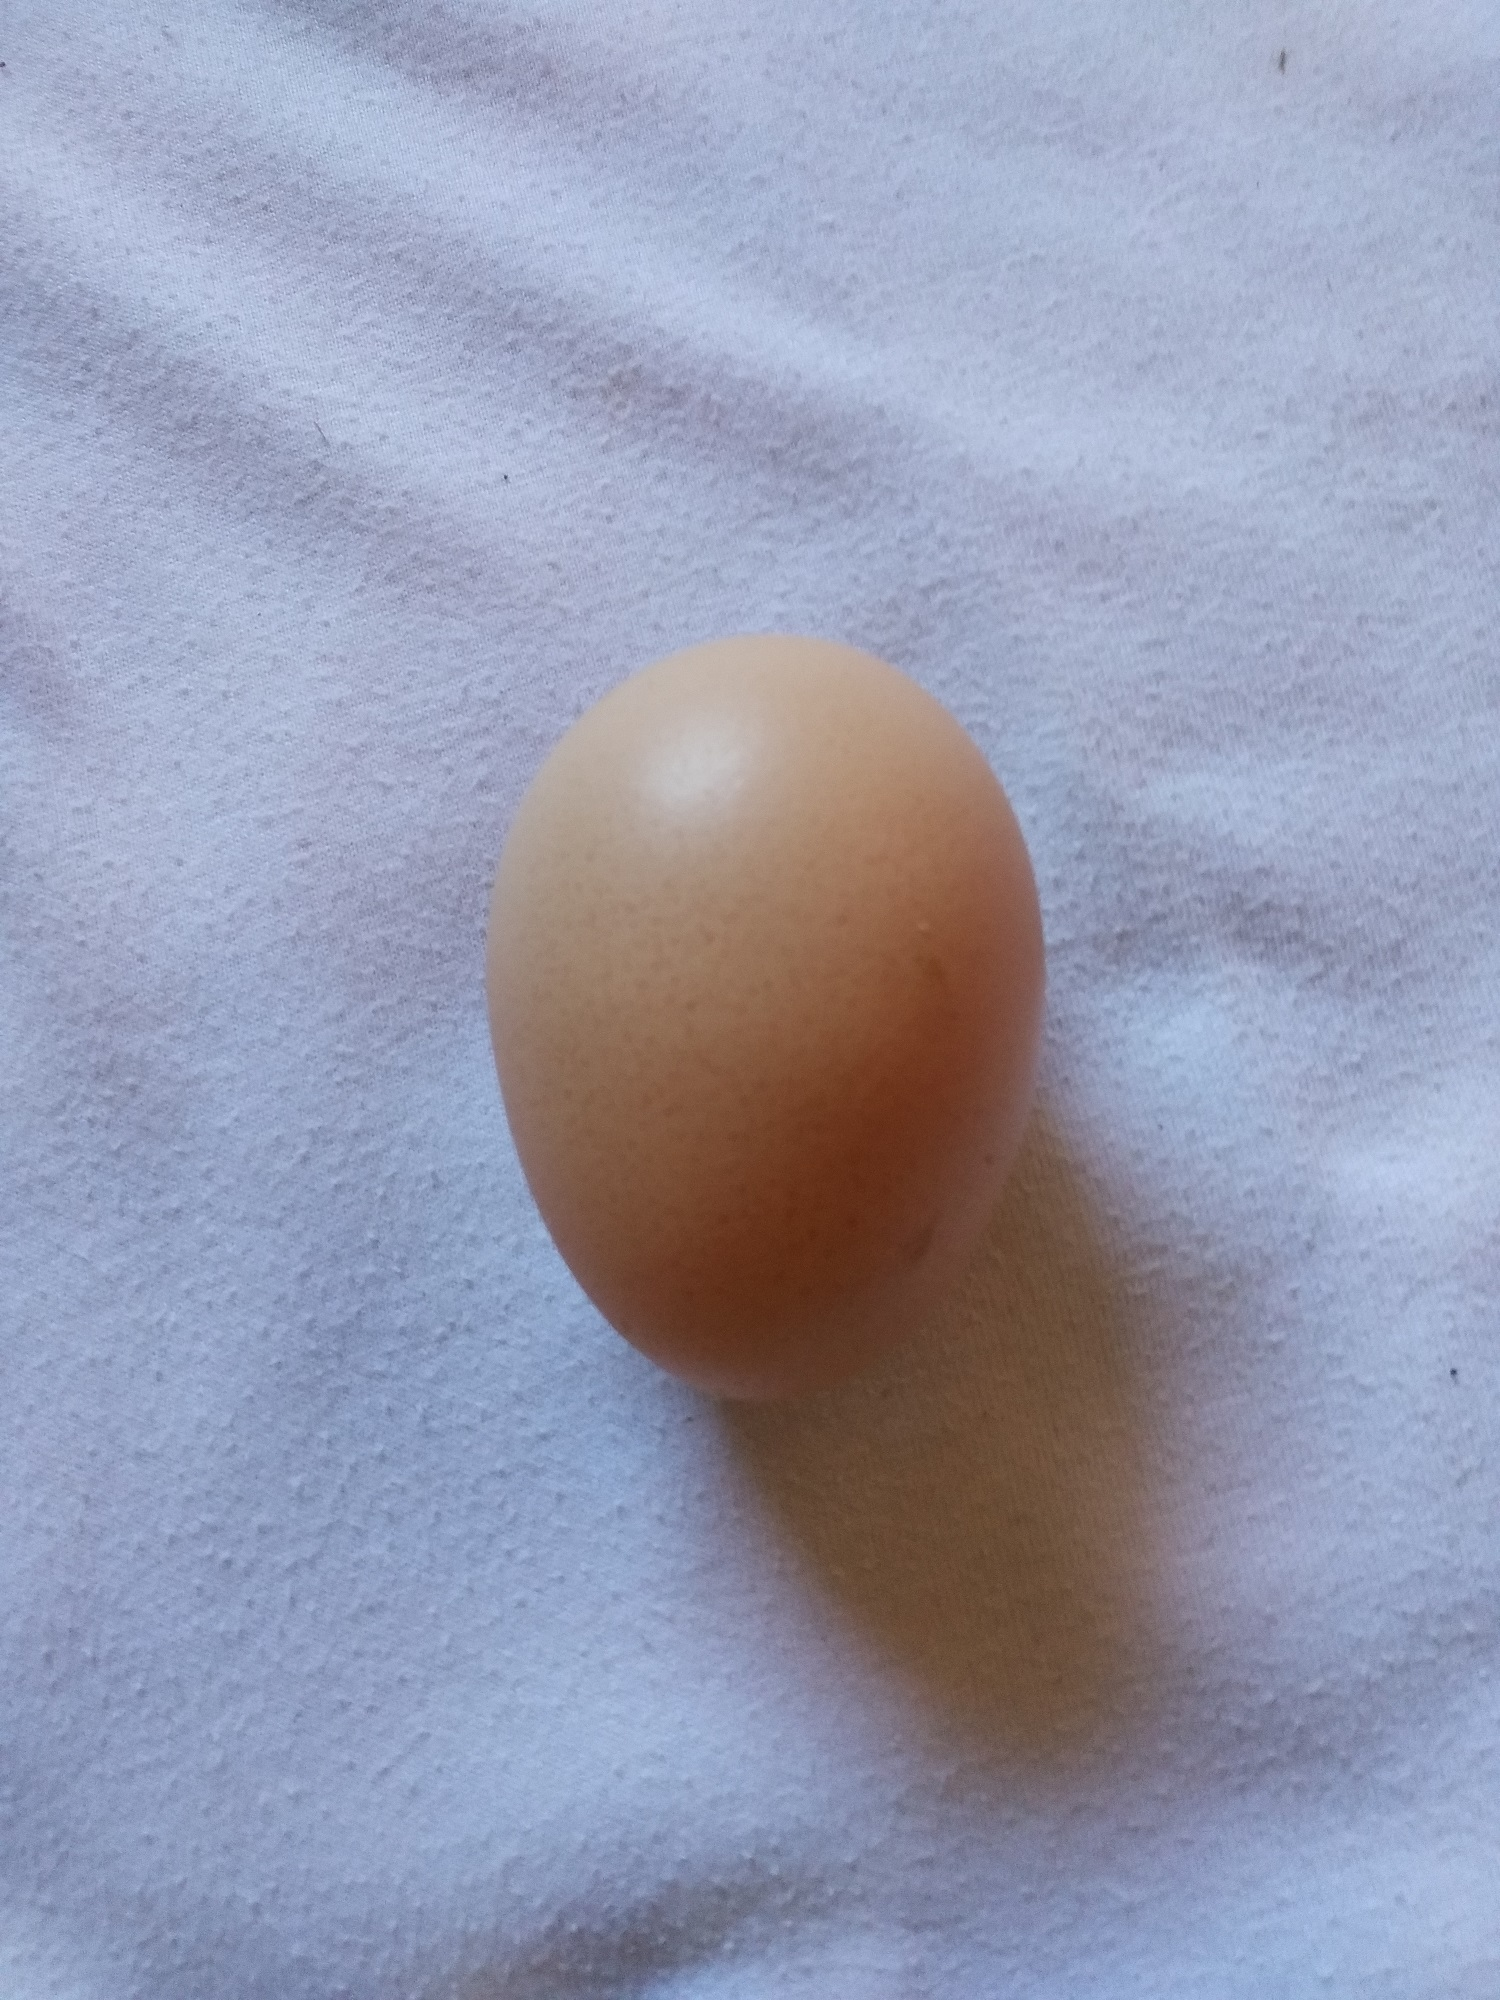Female: (477, 627, 1060, 1405)
